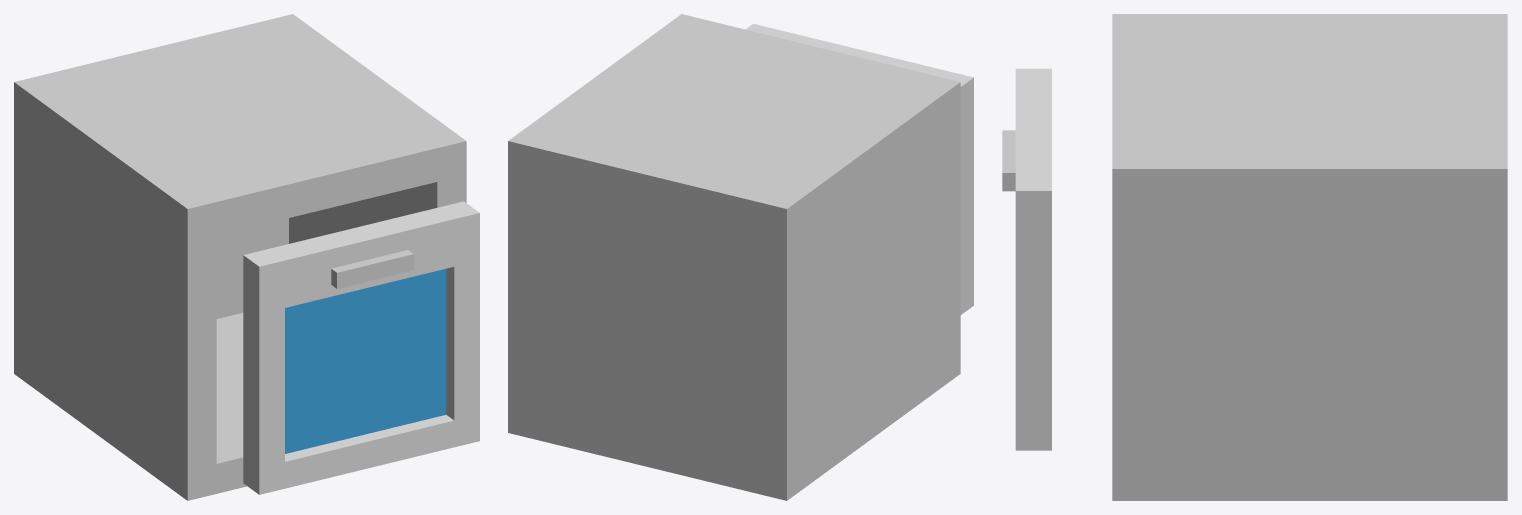
Rendered from trashshute.fbx.
The picture shows the model from 3 angles, left to right: view 1: azimuth 30°, elevation 25°; view 2: azimuth 150°, elevation 25°; view 3: azimuth 270°, elevation 25°; orthographic projection. The views are drawn at different scales.
Visible parts, largest first — view 1: Trash, Door, Handle; view 2: Trash, Door; view 3: Trash, Door, Handle.
Boxes of the visible parts, left/top/right/bottom form: Trash: left=14, top=14, right=466, bottom=500; Door: left=243, top=201, right=479, bottom=494; Handle: left=331, top=250, right=413, bottom=288; Trash: left=508, top=14, right=960, bottom=500; Door: left=745, top=23, right=973, bottom=314; Trash: left=1112, top=14, right=1507, bottom=500; Door: left=1015, top=68, right=1051, bottom=450; Handle: left=1002, top=130, right=1015, bottom=191.
Bounding box in the file's own units: 200 × 200 × 276.
